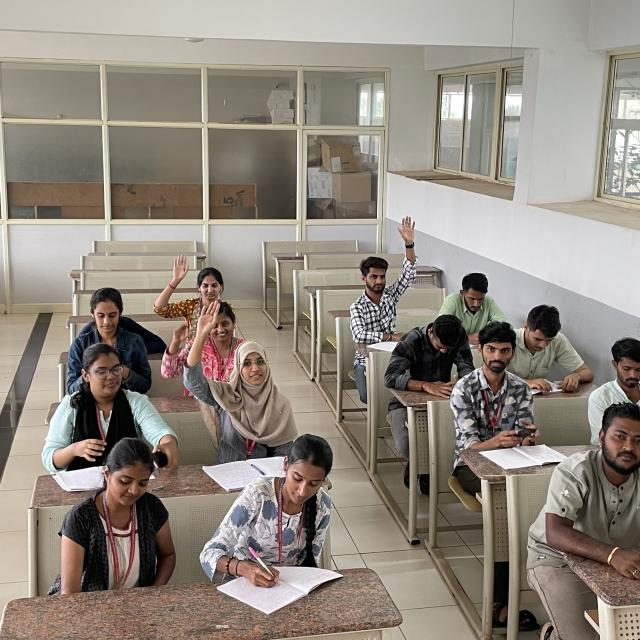Hand Rising: (184, 290, 293, 451), (350, 213, 422, 342), (152, 250, 232, 320)
Reading: (514, 301, 589, 394)
Using Phone: (456, 321, 538, 442), (392, 316, 474, 401)
Writing: (203, 432, 334, 602)
